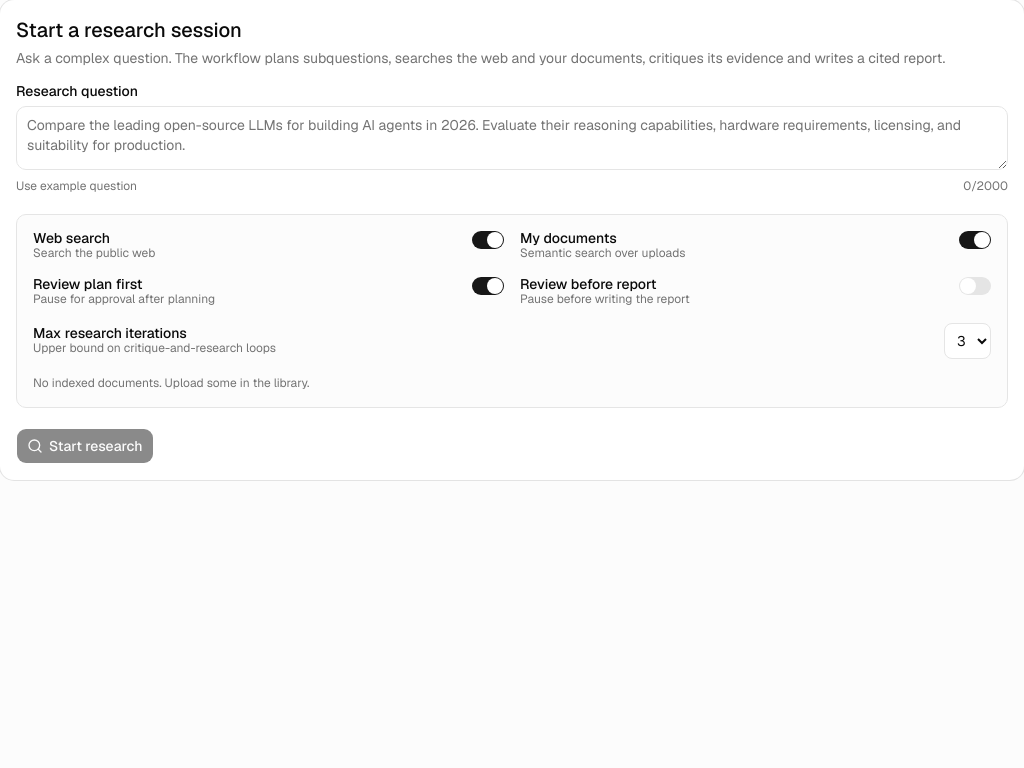
Test: NewResearchForm › shows API errors
This screenshot has width=1024, height=768.
Type "A long enough research question" into the text box labelled "Research question" at (512, 138), box [16,106,1008,170]
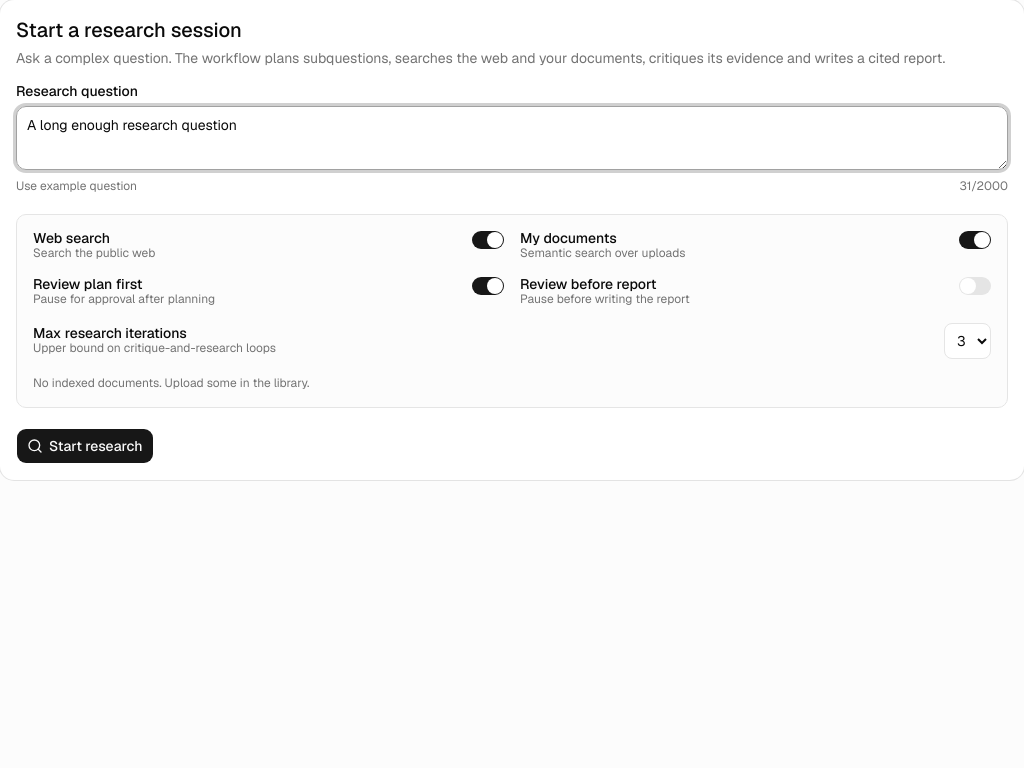
Click the button "Start research" at (85, 446), box [16,428,154,464]
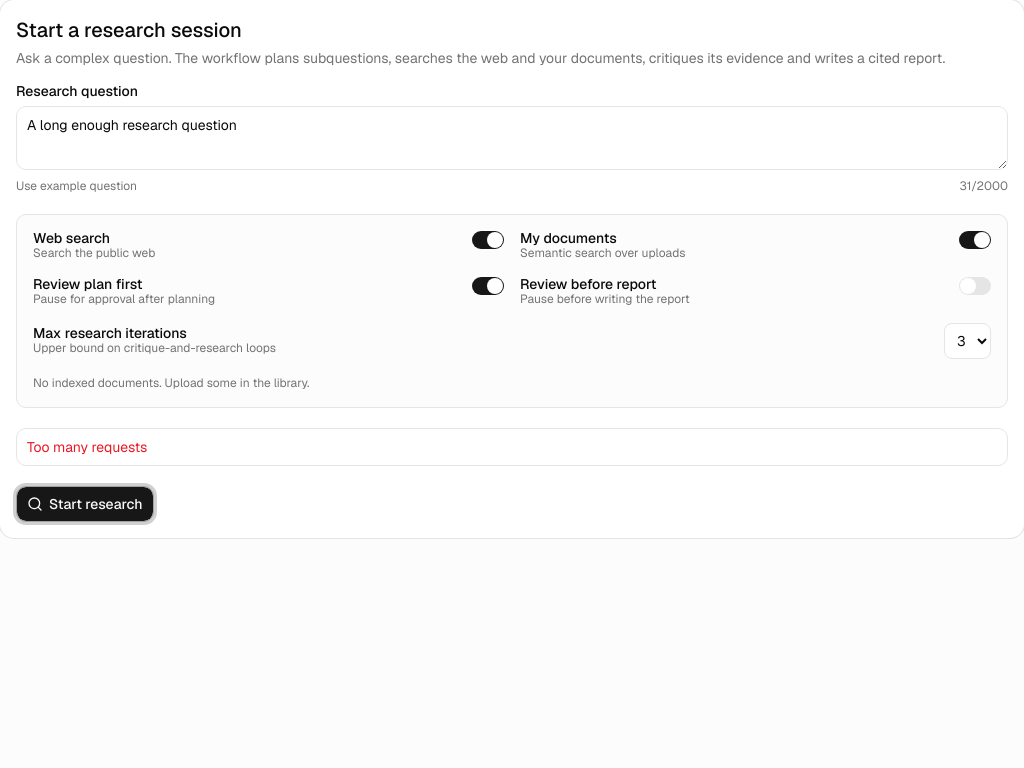
Expected: the text "Too many requests" is shown, [27,438,147,456]
